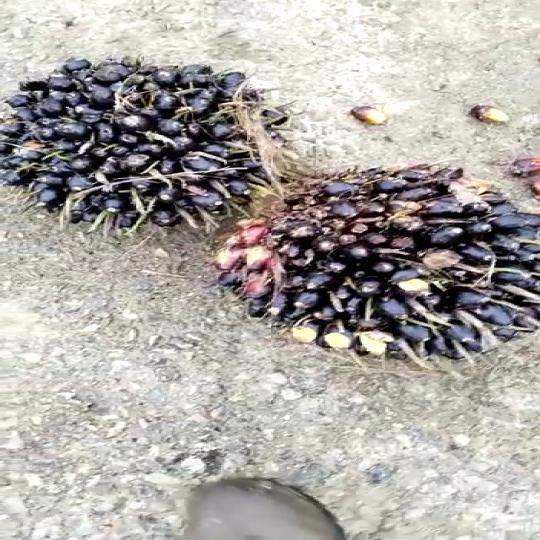mentah: (214, 168, 540, 362), (16, 41, 294, 236)
